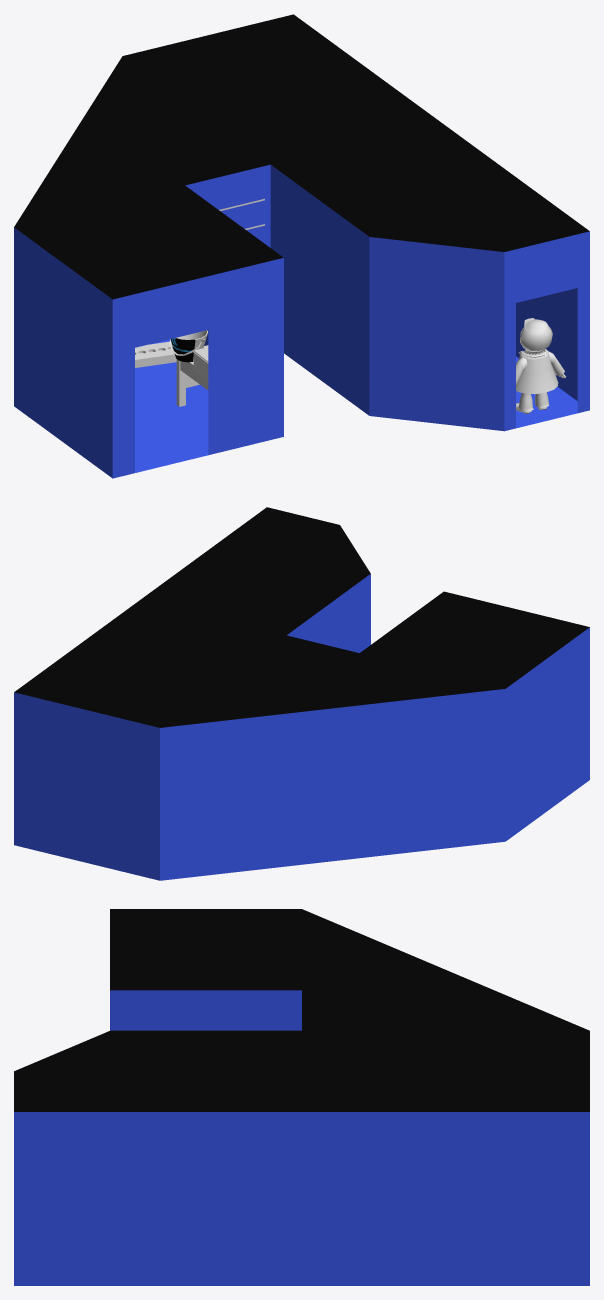
The model's file is 2 room.fbx.
3 views of the same model, one above another, from view 1: azimuth 30°, elevation 25°; view 2: azimuth 150°, elevation 25°; view 3: azimuth 270°, elevation 25° (orthographic). The views are drawn at different scales.
Visible parts, largest first — view 1: path1556, Sphere.003, Cube.021, Sphere.006, Cube.007, Cylinder; view 2: path1556; view 3: path1556.
Part boxes in pixels (x1,y1,x2,y2): path1556: [14, 14, 589, 478]; Sphere.003: [516, 349, 564, 394]; Cube.021: [135, 341, 176, 367]; Sphere.006: [521, 318, 552, 350]; Cube.007: [176, 345, 208, 406]; Cylinder: [169, 330, 207, 362]; path1556: [14, 507, 589, 880]; path1556: [14, 909, 589, 1285].
Size of the model in its own units: 500 by 201 by 600.
